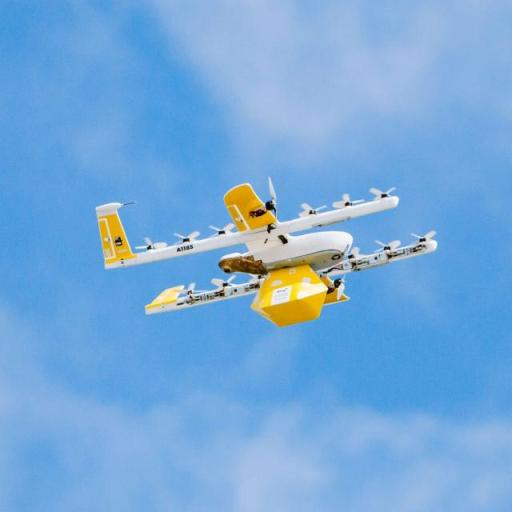uav: (84, 175, 442, 328)
